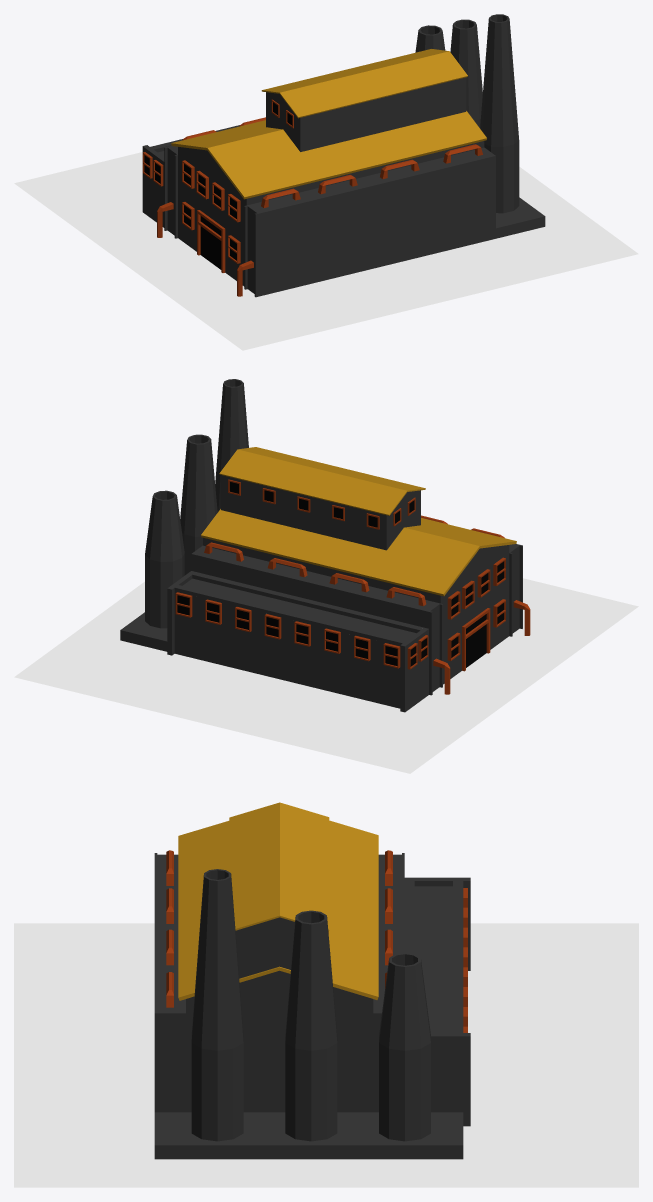
The model's file is FabriqueFinel.fbx.
The picture shows the model from 3 angles, top to bottom: view 1: azimuth 30°, elevation 25°; view 2: azimuth 150°, elevation 25°; view 3: azimuth 270°, elevation 25°; orthographic projection. The views are drawn at different scales.
Visible parts, largest first — view 1: Plane, Wall_2, RightRoof, Body_1, Pipe__1_, RightRoof_1, Body, Pipe__2_, Wall_1, Main_Door, LeftRoof_1, LeftRoof (+3 smaller); view 2: Plane, Wall_1, LeftRoof, Wall, Body_1, LeftRoof_1, Body, Pipe, Pipe__2_, Pipe__1_, RightRoof_1, Main_Door (+3 smaller); view 3: Plane, Pipe__1_, Wall_1, Floor, Pipe__2_, Body, Pipe, LeftRoof, Wall_2, RightRoof_1, LeftRoof_1, RightRoof (+3 smaller).
Part boxes in pixels (<box>): Plane: <box>14,152,638,350</box>; Wall_2: <box>244,147,495,297</box>; RightRoof: <box>207,111,486,199</box>; Body_1: <box>266,77,466,151</box>; Pipe__1_: <box>480,14,519,213</box>; RightRoof_1: <box>279,51,467,118</box>; Body: <box>178,141,484,286</box>; Pipe__2_: <box>450,19,482,127</box>; Wall_1: <box>142,125,239,227</box>; Main_Door: <box>197,210,225,272</box>; LeftRoof_1: <box>261,49,448,93</box>; LeftRoof: <box>171,120,282,150</box>; Plane: <box>14,578,638,773</box>; Wall_1: <box>167,571,428,712</box>; LeftRoof: <box>201,509,479,596</box>; Wall: <box>191,545,442,695</box>; Body_1: <box>221,475,420,550</box>; LeftRoof_1: <box>219,449,407,515</box>; Body: <box>203,537,509,684</box>; Pipe: <box>145,490,184,628</box>; Pipe__2_: <box>180,434,217,575</box>; Pipe__1_: <box>215,379,248,512</box>; RightRoof_1: <box>238,447,425,491</box>; Main_Door: <box>462,608,490,671</box>; Plane: <box>14,923,638,1187</box>; Pipe__1_: <box>191,869,243,1141</box>; Wall_1: <box>404,877,470,1126</box>; Floor: <box>154,1112,463,1159</box>; Pipe__2_: <box>285,910,337,1141</box>; Body: <box>186,999,373,1112</box>; Pipe: <box>379,953,430,1141</box>; LeftRoof: <box>279,820,378,999</box>; Wall_2: <box>154,853,185,1112</box>; RightRoof_1: <box>229,802,279,930</box>; LeftRoof_1: <box>280,802,329,931</box>; RightRoof: <box>178,821,279,1000</box>.
Size of the model in its own units: 2000 by 950 by 2000.
